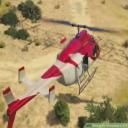helicopter: (3, 18, 110, 128)
